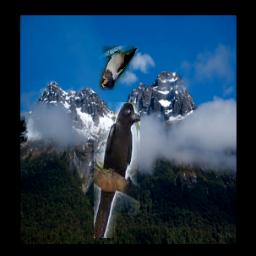Crow: (95, 102, 141, 238)
Swallow: (100, 46, 139, 90)
